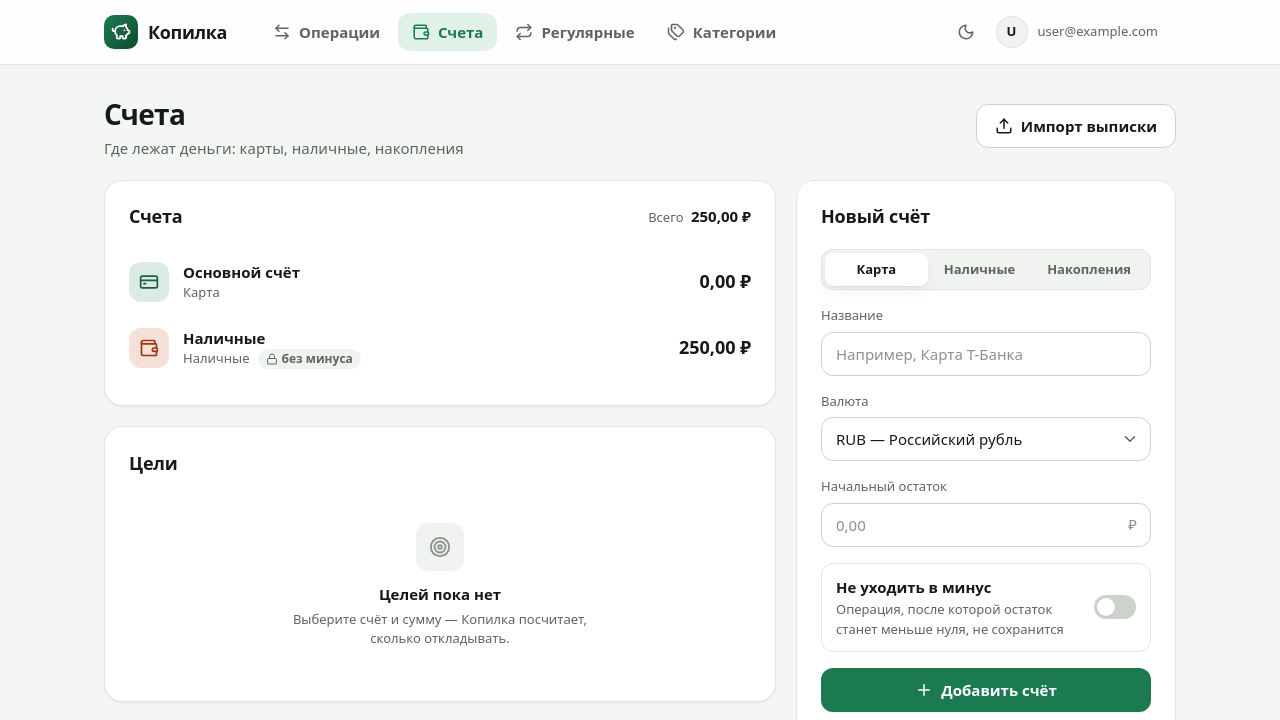
Test: AccountsPage › archive › says what is left on an account that is not empty
The image size is (1280, 720).
Click the button "Наличные Наличные без минуса 250,00 ₽".
click(149, 348)  # box [117, 314, 763, 381]
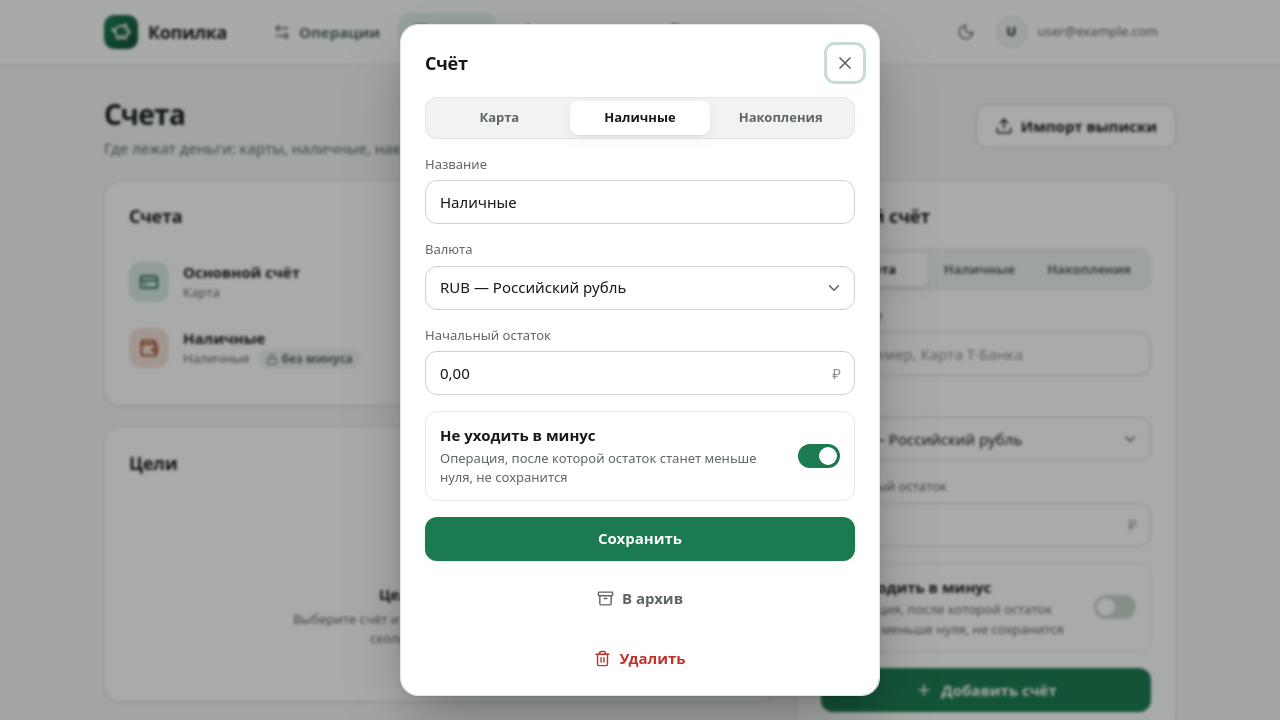
Click the button with aria-label "Отправить в архив".
click(640, 598)  # box [425, 576, 855, 620]
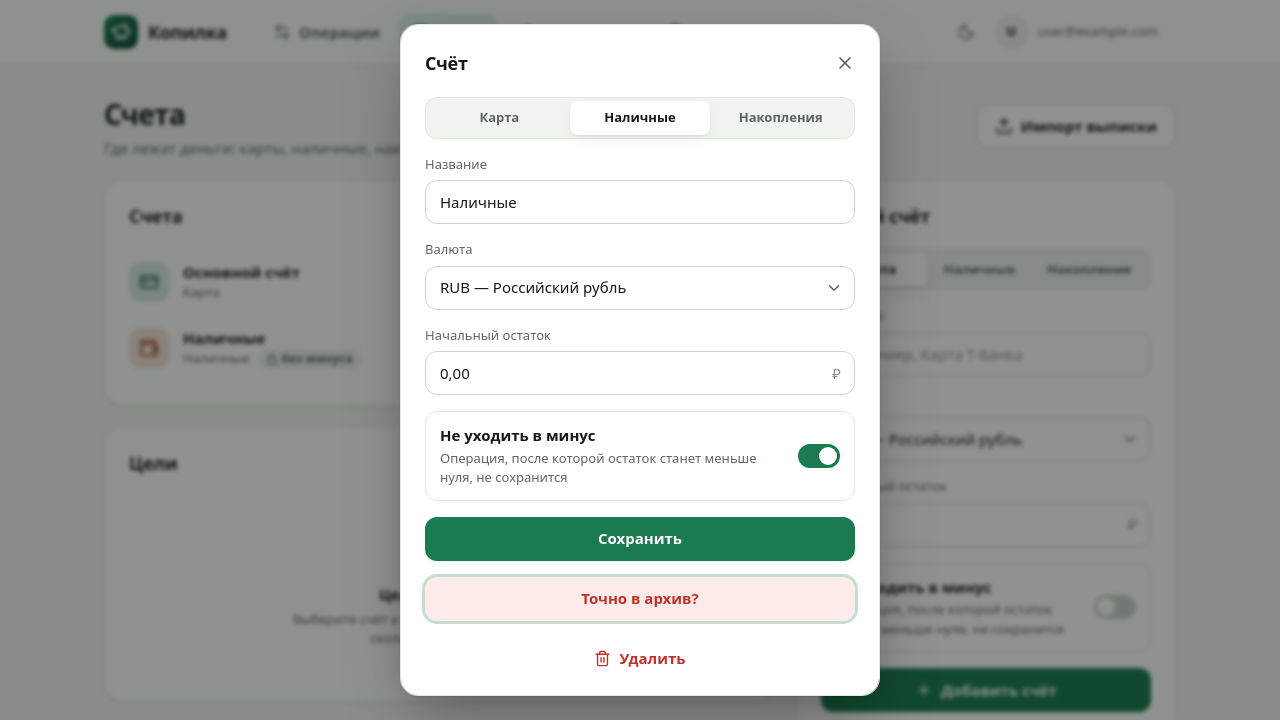
Click the button with aria-label "Подтвердите: Отправить в архив".
click(640, 598)  # box [425, 576, 855, 620]
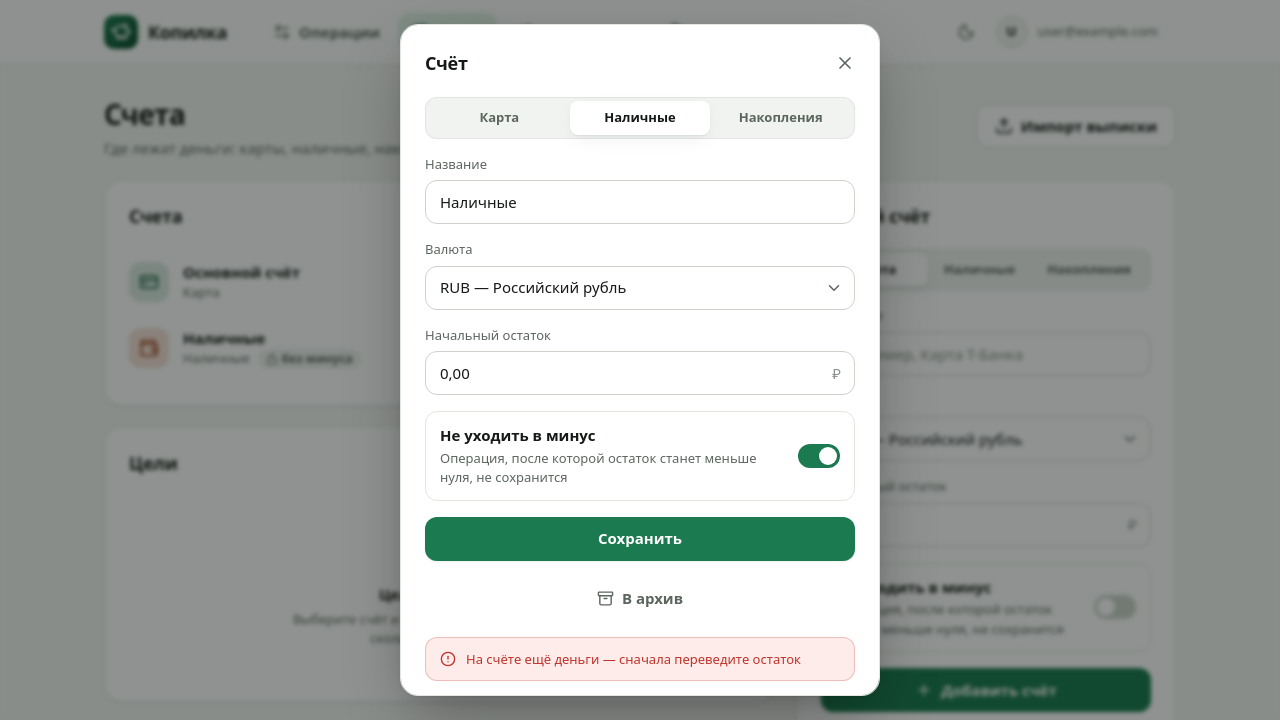
expect the text "На счёте ещё деньги — сначала переведите остаток" is shown: met, box [466, 650, 801, 668]
